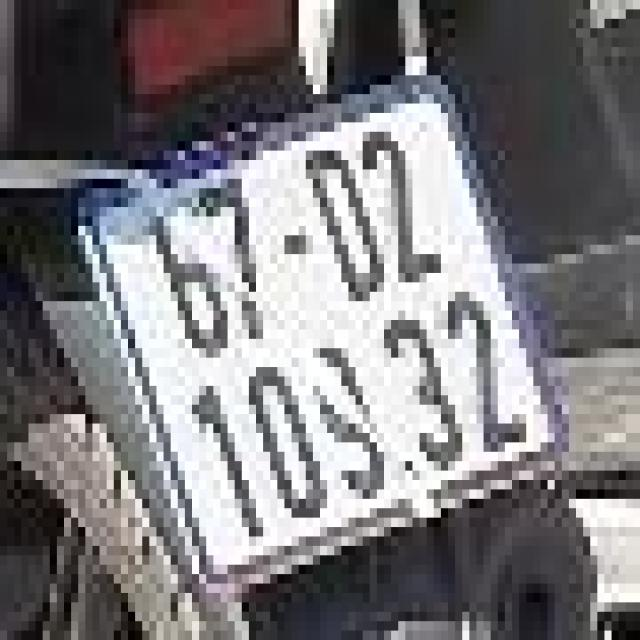0: (232, 351, 340, 532)
1: (177, 375, 277, 559)
2: (348, 116, 455, 300), (436, 279, 538, 465)
3: (372, 304, 476, 474)
6: (138, 187, 244, 377)
7: (192, 164, 295, 354)
9: (297, 328, 400, 509)
D: (292, 133, 397, 319)
